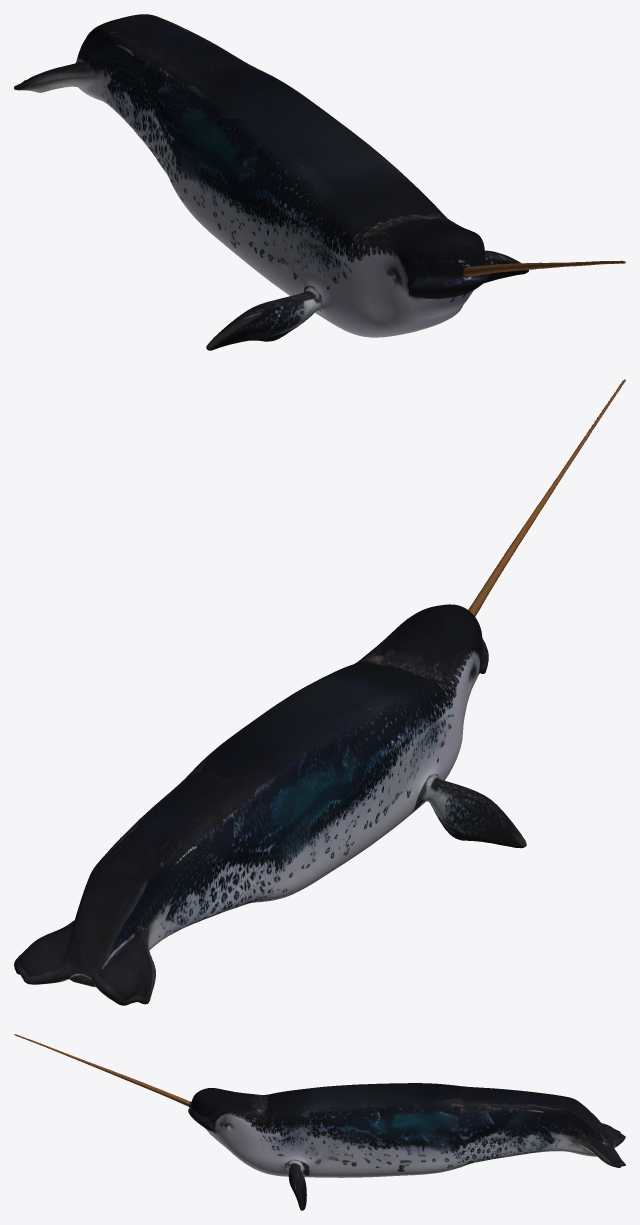
File: Narwhal.glb
3 renders of one model, top to bottom at view 1: azimuth 30°, elevation 25°; view 2: azimuth 150°, elevation 25°; view 3: azimuth 270°, elevation 25°, orthographic. The views are drawn at different scales.
Parts seen in each view (by area): view 1: tripo_node_4cceefb9-304c-4b70-bec3-6f65f2323a4d; view 2: tripo_node_4cceefb9-304c-4b70-bec3-6f65f2323a4d; view 3: tripo_node_4cceefb9-304c-4b70-bec3-6f65f2323a4d.
Boxes of the visible parts, <box> form: tripo_node_4cceefb9-304c-4b70-bec3-6f65f2323a4d: <box>14,14,625,350</box>; tripo_node_4cceefb9-304c-4b70-bec3-6f65f2323a4d: <box>14,379,625,1005</box>; tripo_node_4cceefb9-304c-4b70-bec3-6f65f2323a4d: <box>14,1034,625,1210</box>.
Bounding box in the file's own units: 0.3379 × 0.2471 × 1.
1 material, 1 textured.
